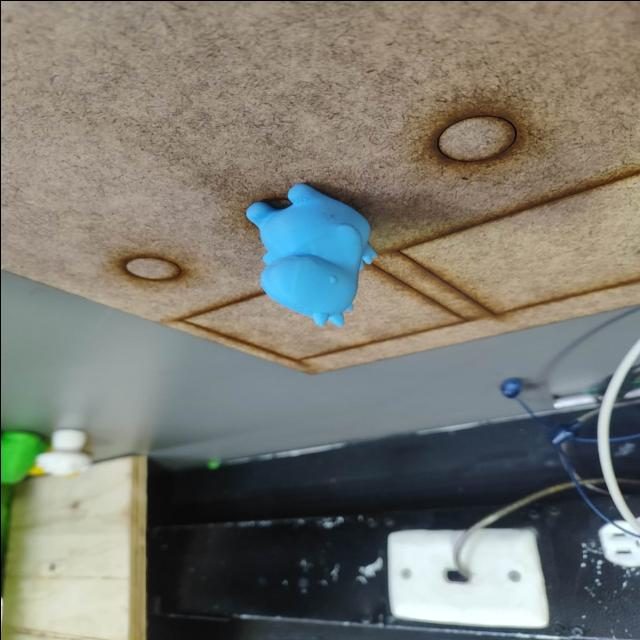DINO: (238, 184, 388, 344)
